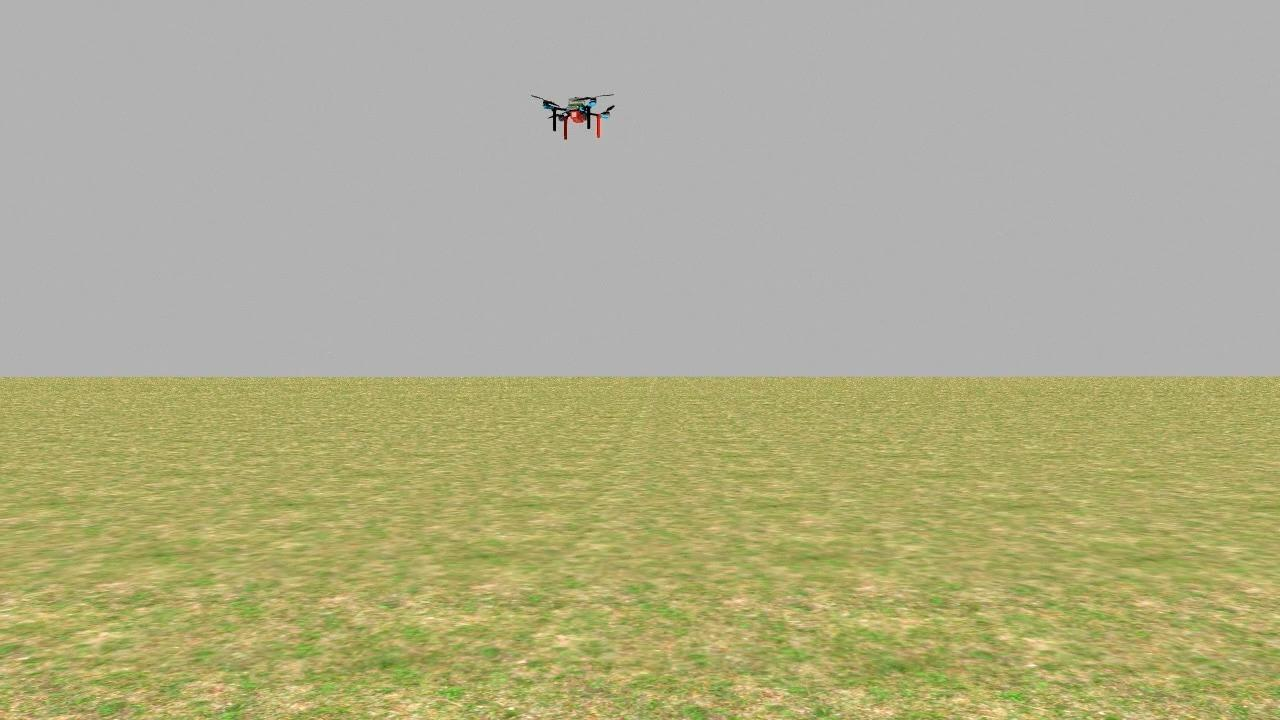UAV: (538, 84, 623, 154)
